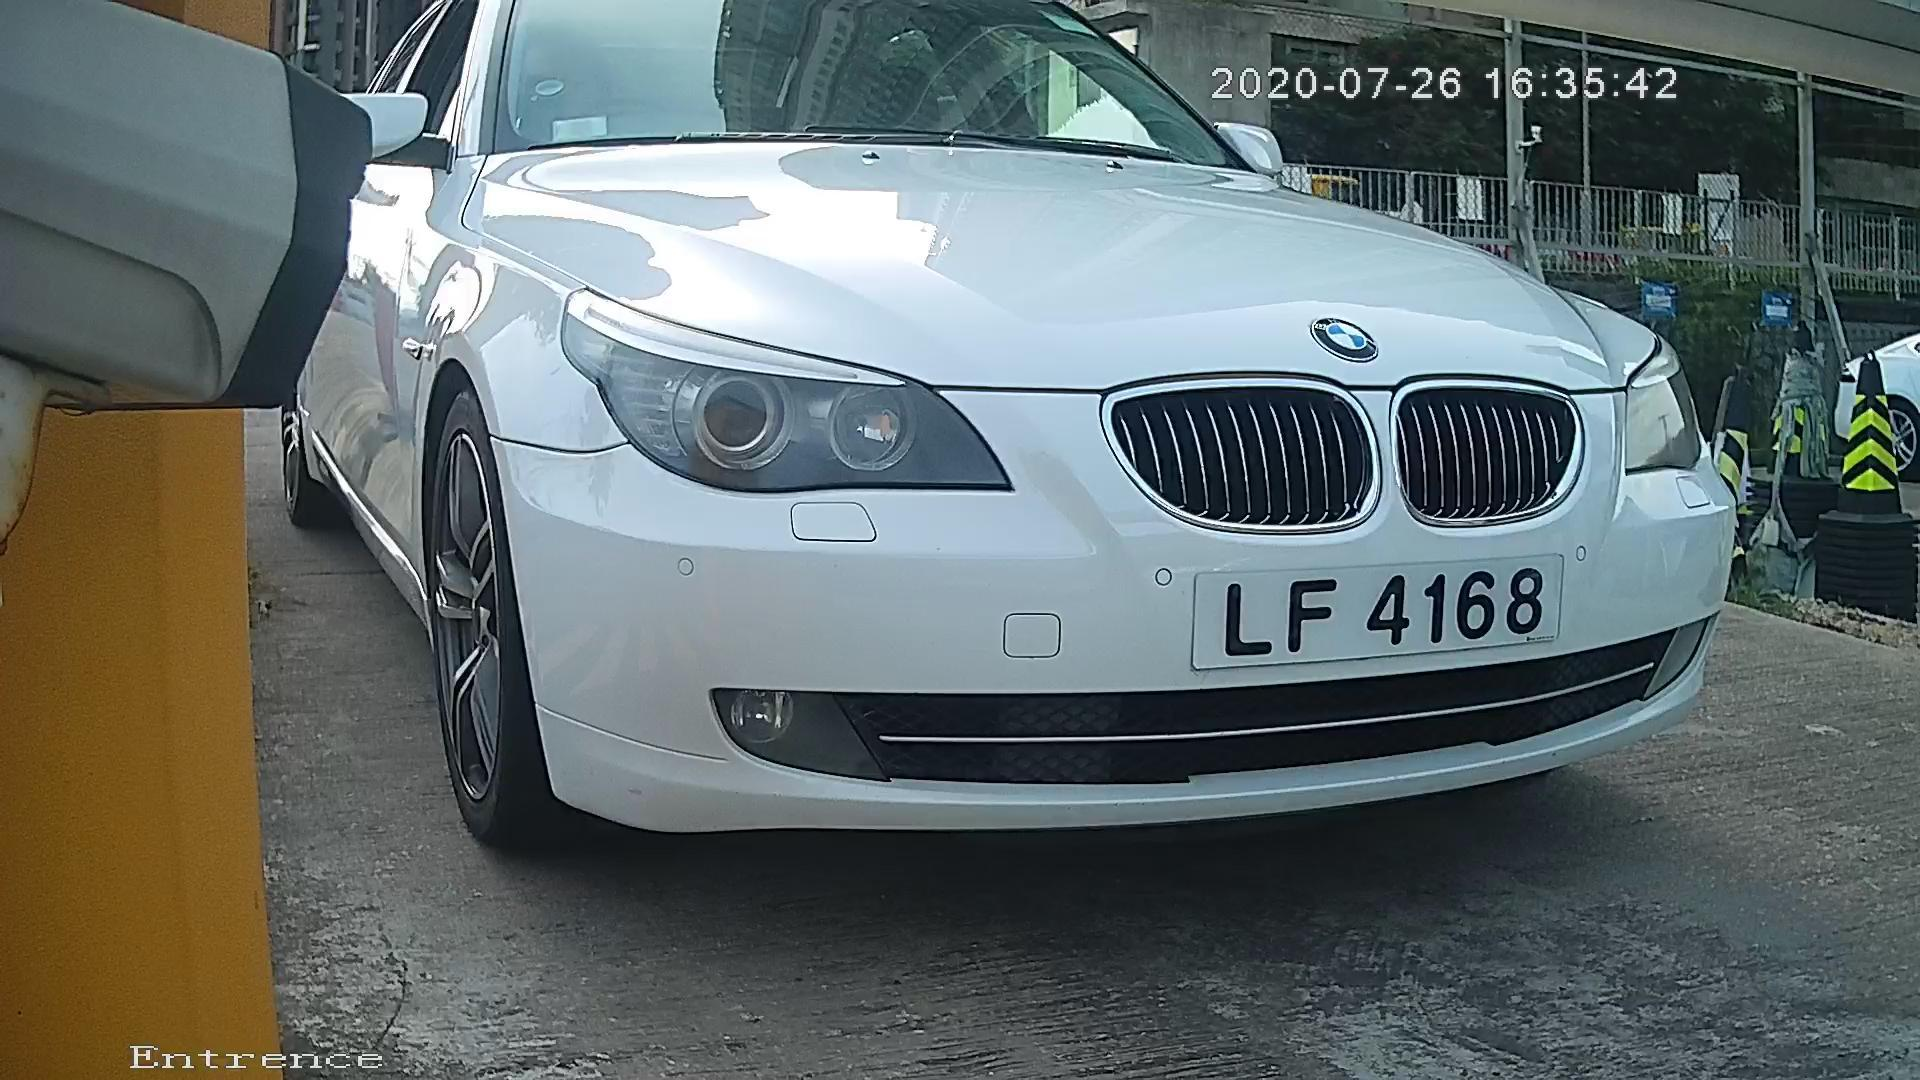privatecar: (258, 11, 1836, 878)
